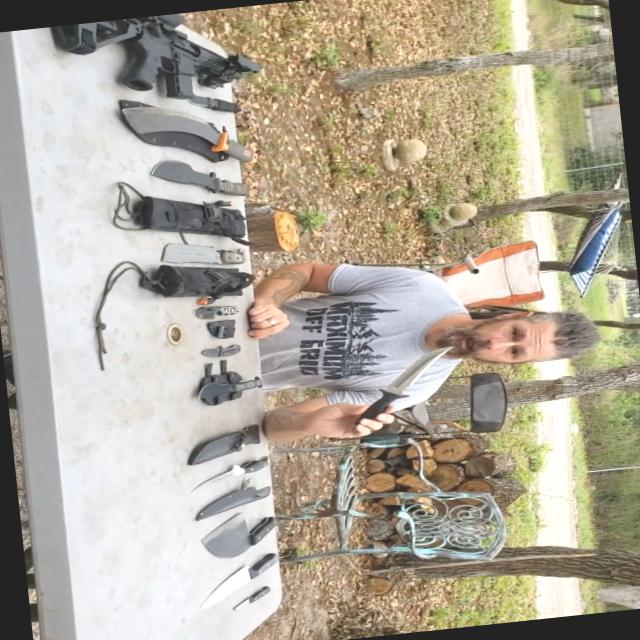knife: (330, 339, 468, 438), (124, 94, 277, 181), (176, 546, 292, 615), (190, 499, 294, 561), (138, 228, 264, 279), (170, 362, 288, 413), (160, 153, 260, 211), (178, 452, 282, 494), (175, 86, 253, 130), (170, 298, 250, 332), (222, 582, 280, 620), (180, 336, 250, 365)
long weapon: (0, 5, 272, 121)
